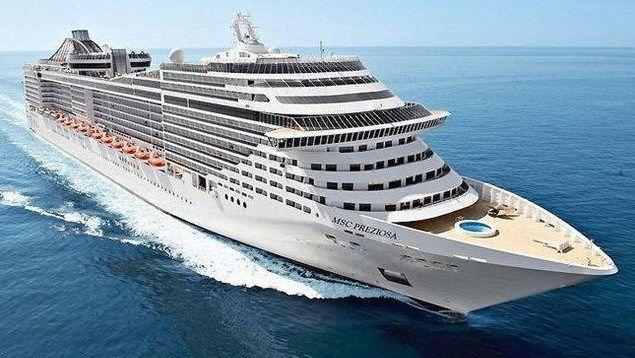youlun: (22, 11, 617, 322)
